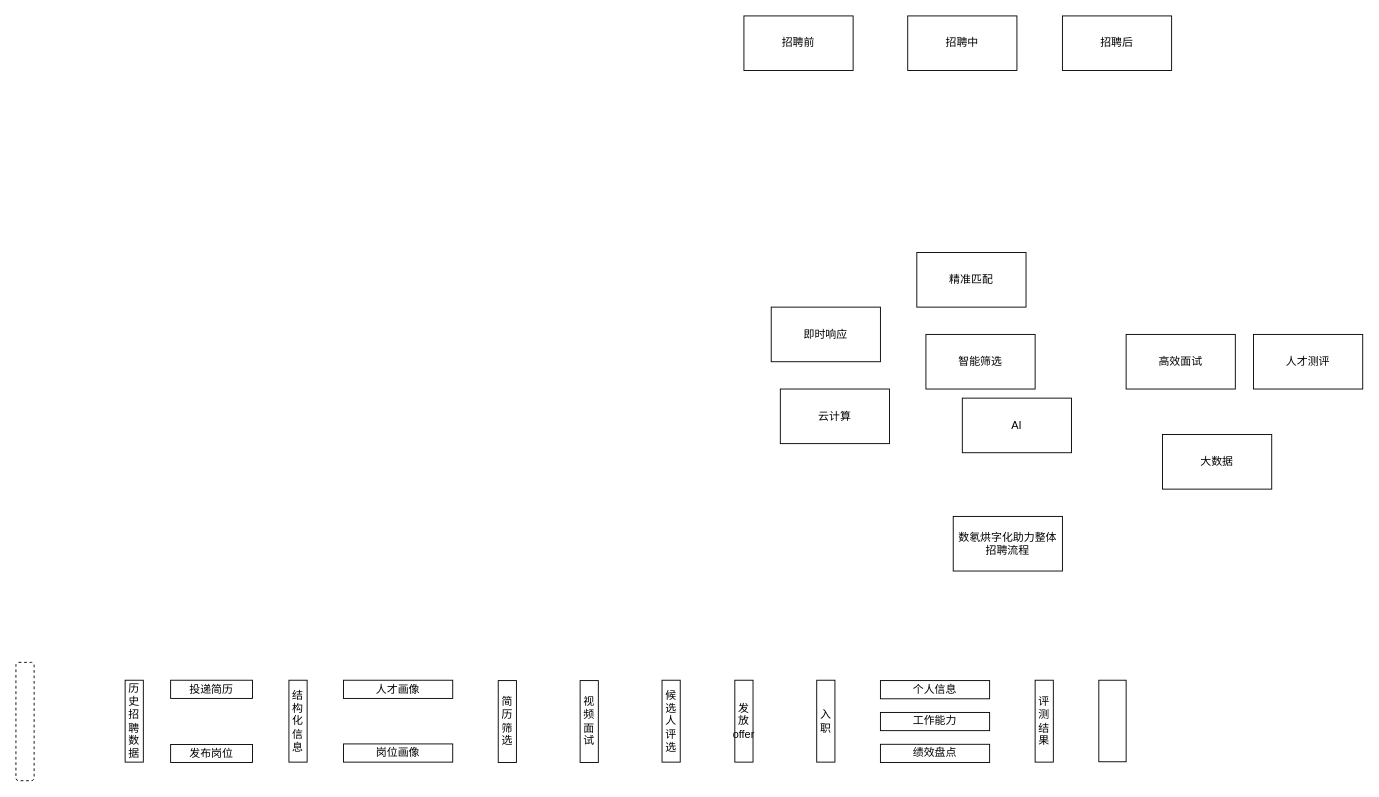
The diagram is 1379 pixels wide and 797 high, and some of its shapes have lost their labels. Here are the shapes that lost their labels. From the top down, the centre of each, then its label:
the point at 24,721: 灵活就业者
the point at 1112,720: 用工企业
